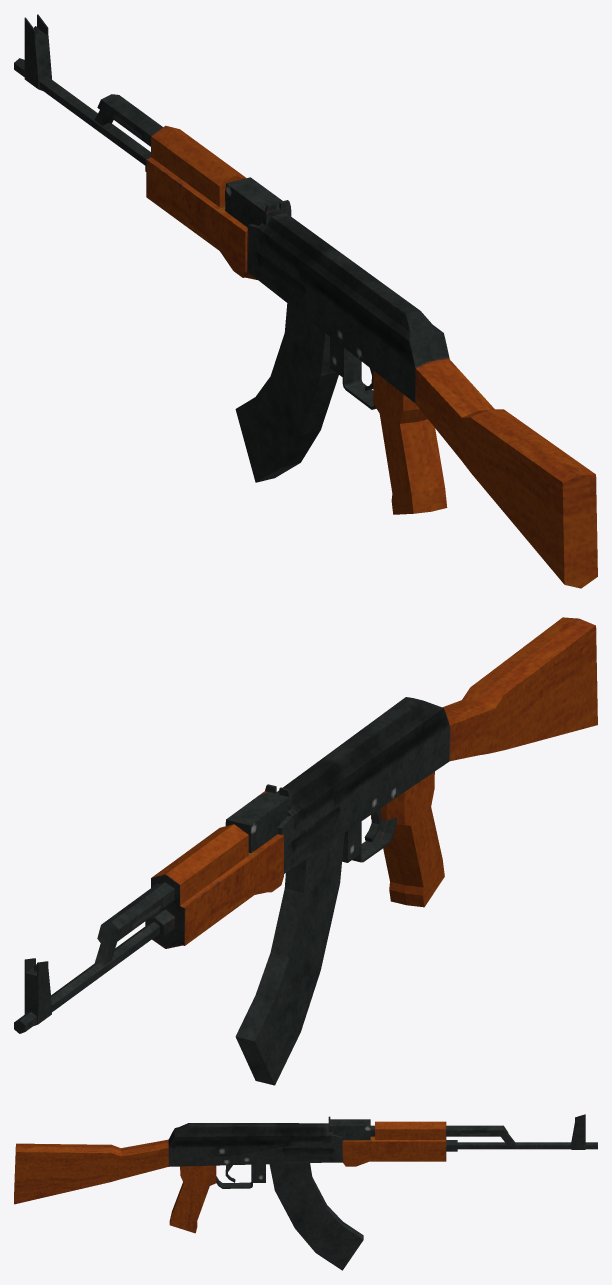
3 views of the same model, one above another, from view 1: azimuth 30°, elevation 25°; view 2: azimuth 150°, elevation 25°; view 3: azimuth 270°, elevation 25° (orthographic). The views are drawn at different scales.
Visible parts, largest first — view 1: ak47; view 2: ak47; view 3: ak47.
Part boxes in pixels (x1,y1,x2,y2): ak47: (14,14,597,588); ak47: (14,617,597,1085); ak47: (14,1114,597,1270).
Bounding box in the file's own units: 3.45 × 25.06 × 87.
